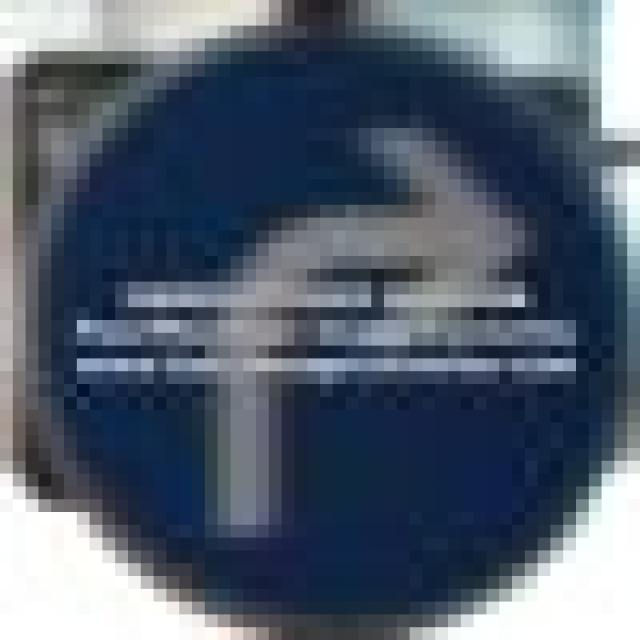TURN_RIGHT: (12, 13, 602, 614)
